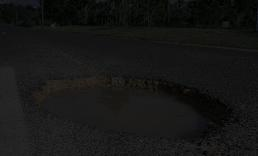pothole: (20, 63, 244, 148)
